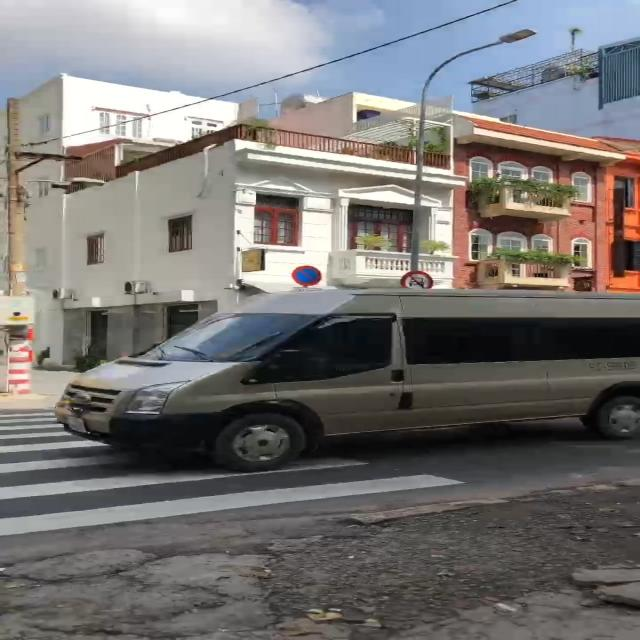Bien bao cam do xe: (290, 264, 326, 288)
Bien bao cam xe oto: (397, 269, 436, 290)
